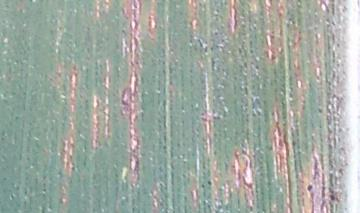tarspot: (305, 182, 314, 192), (329, 191, 336, 202), (206, 178, 213, 186), (317, 106, 324, 114)
